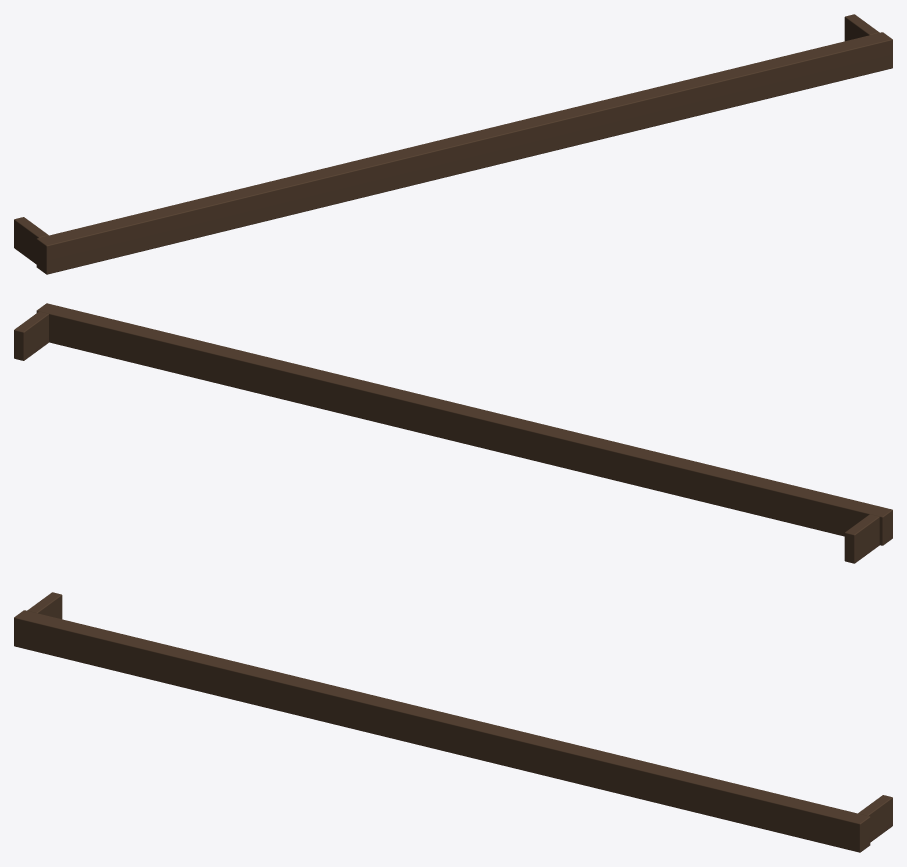
The model's file is eurofit-h-022-416orb.glb.
The picture shows the model from 3 angles, top to bottom: view 1: azimuth 30°, elevation 25°; view 2: azimuth 150°, elevation 25°; view 3: azimuth 330°, elevation 25°; orthographic projection.
Visible parts, largest first — view 1: Rectangular grip, Mounting standoff, Mounting standoff.001; view 2: Rectangular grip, Mounting standoff, Mounting standoff.001; view 3: Rectangular grip, Mounting standoff.001, Mounting standoff.
Part boxes in pixels (x1,y1,x2,y2): Rectangular grip: (36,32,892,274); Mounting standoff: (14,217,48,264); Mounting standoff.001: (844,14,879,41); Rectangular grip: (36,303,892,545); Mounting standoff: (844,514,879,563); Mounting standoff.001: (14,311,48,360); Rectangular grip: (14,610,870,852); Mounting standoff.001: (858,795,892,842); Mounting standoff: (27,592,62,619).
Bounding box in the file's own units: 0.424 × 0.014 × 0.031.
